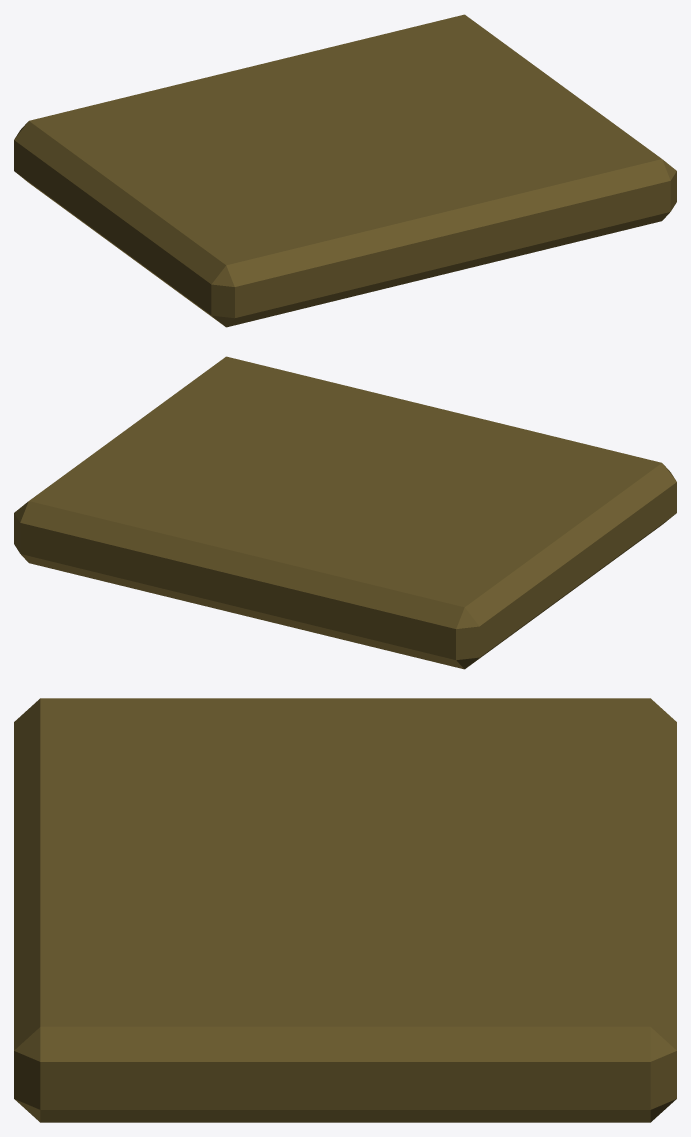
Rendered from BUTTERT.fbx.
3 renders of one model, top to bottom at view 1: azimuth 30°, elevation 25°; view 2: azimuth 150°, elevation 25°; view 3: azimuth 270°, elevation 25°, orthographic. The views are drawn at different scales.
Visible parts, largest first — view 1: pCube1; view 2: pCube1; view 3: pCube1.
Part boxes in pixels (bbox=[...]): pCube1: bbox=[14, 14, 676, 327]; pCube1: bbox=[14, 356, 676, 669]; pCube1: bbox=[14, 698, 676, 1122].
Size of the model in its own units: 1.25 by 0.1598 by 1.
